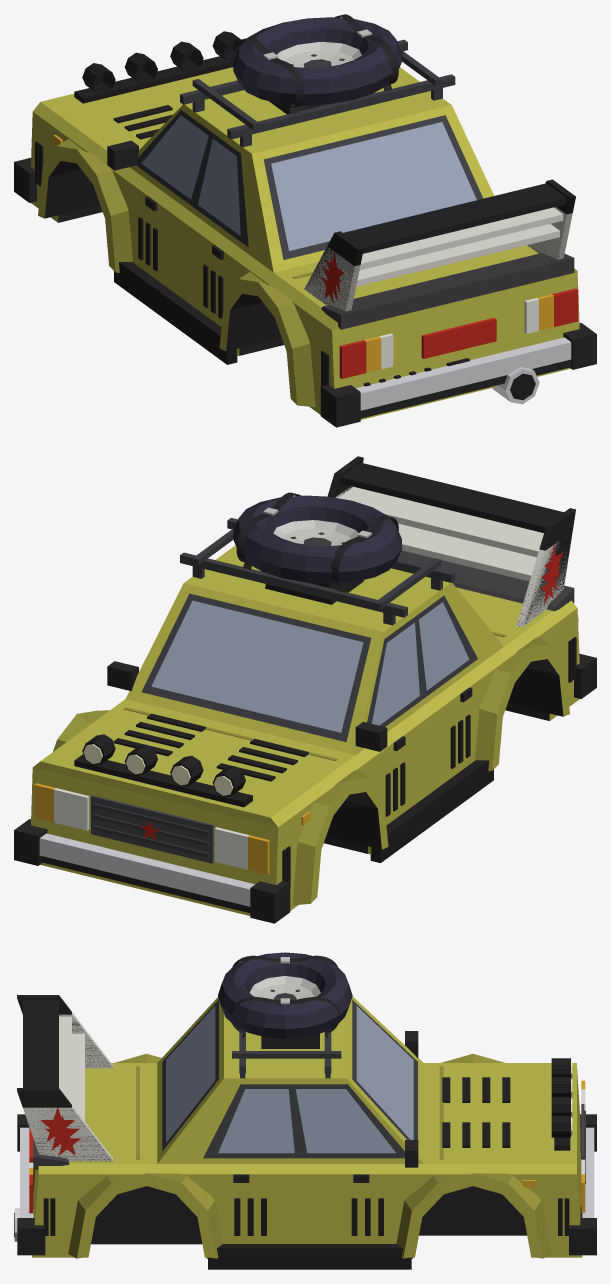
The model's file is pyatyorka2105.glb.
The picture shows the model from 3 angles, top to bottom: view 1: azimuth 30°, elevation 25°; view 2: azimuth 150°, elevation 25°; view 3: azimuth 270°, elevation 25°; orthographic projection. The views are drawn at different scales.
Parts seen in each view (by area): view 1: Body; view 2: Body; view 3: Body.
Part boxes in pixels (box(x1,y1,x2,y2)): Body: box(14, 14, 596, 427); Body: box(14, 456, 596, 923); Body: box(14, 952, 596, 1269).
Bounding box in the file's own units: 2 × 1.86 × 4.11.
